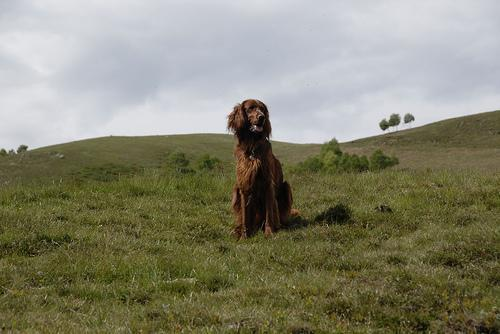Irish_setter: (224, 98, 303, 241)
